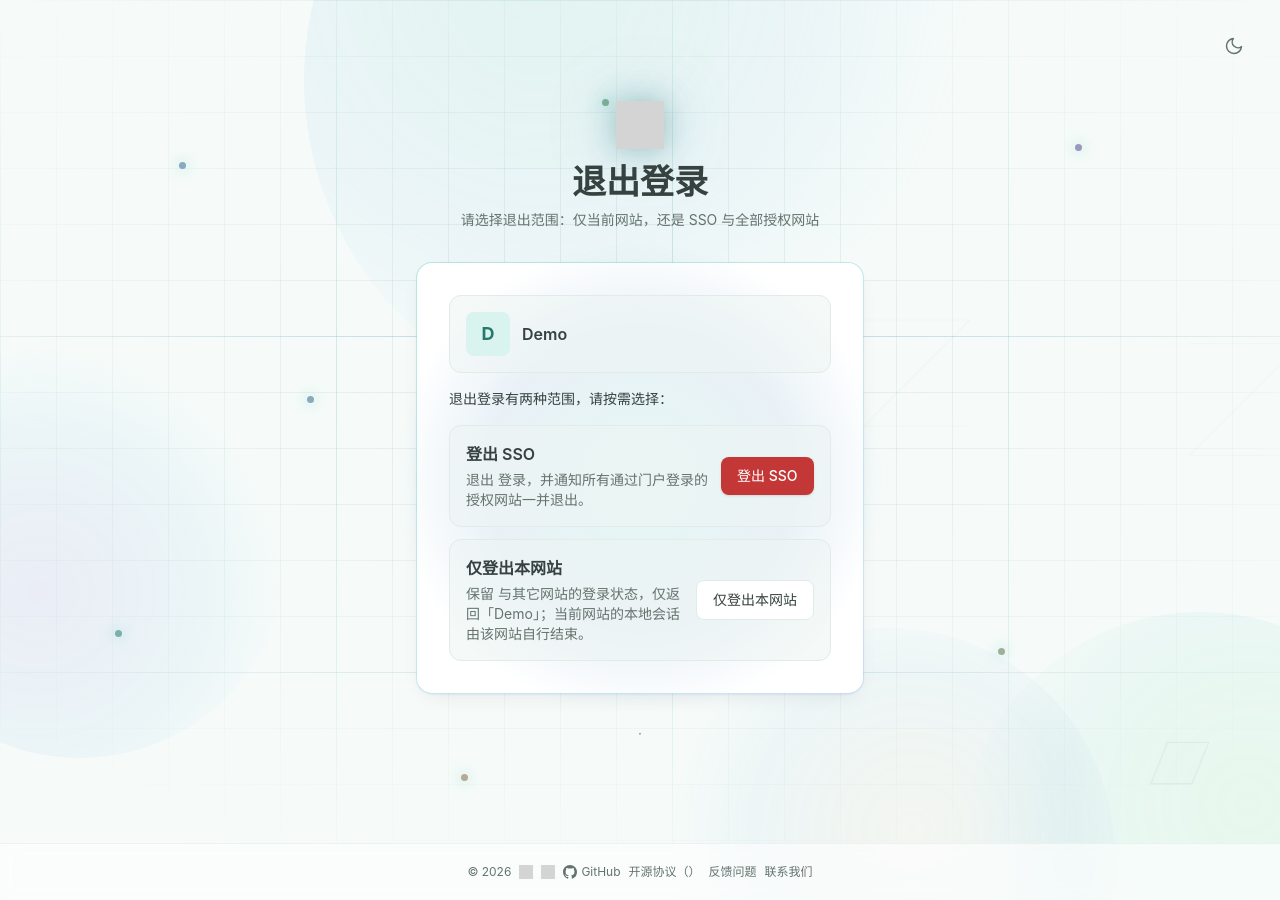
it: LogoutConfirmPage › 处理中状态只出现在被点击的按钮上
Click the button "登出 SSO" at (768, 476), box x1=721 y1=457 x2=814 y2=495
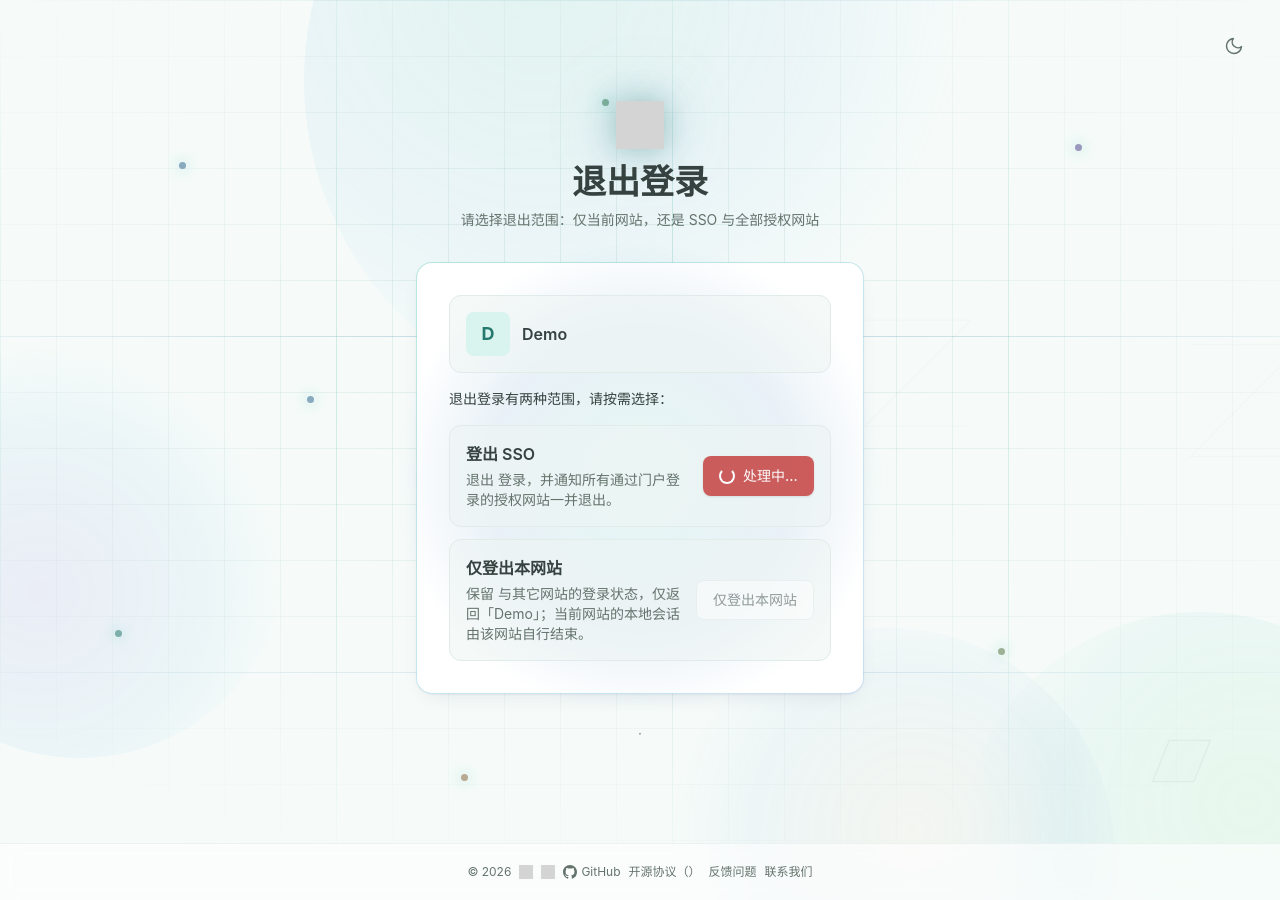
Result: the button "仅登出本网站" is disabled at x1=696 y1=580 x2=814 y2=620
